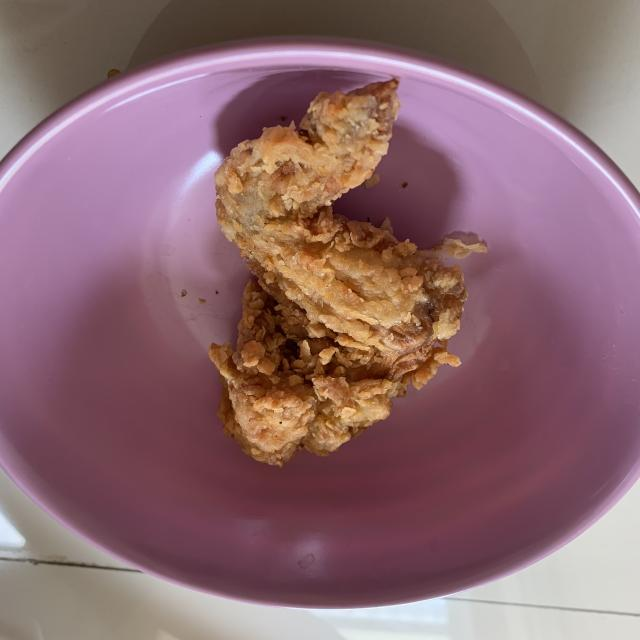Frango: (208, 83, 469, 465)
